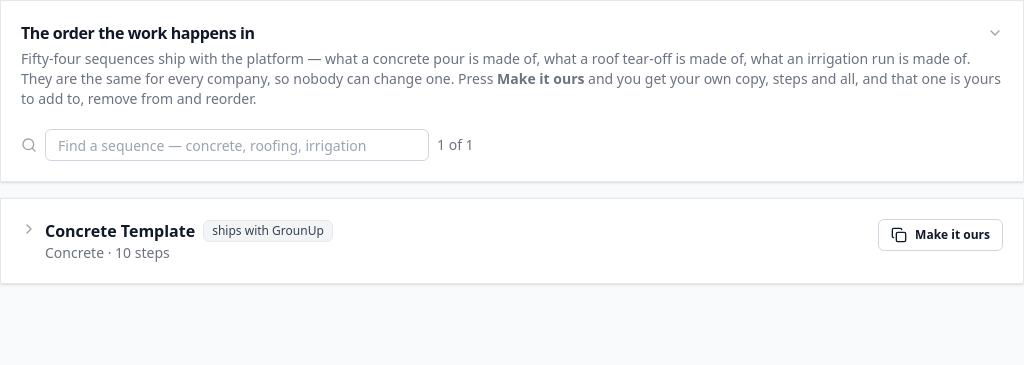
Test: making it yours › shows a refusal rather than a generic failure
The width and height of the screenshot is (1024, 365).
Click the button "Make it ours". click: (941, 235)
box: [878, 219, 1003, 251]
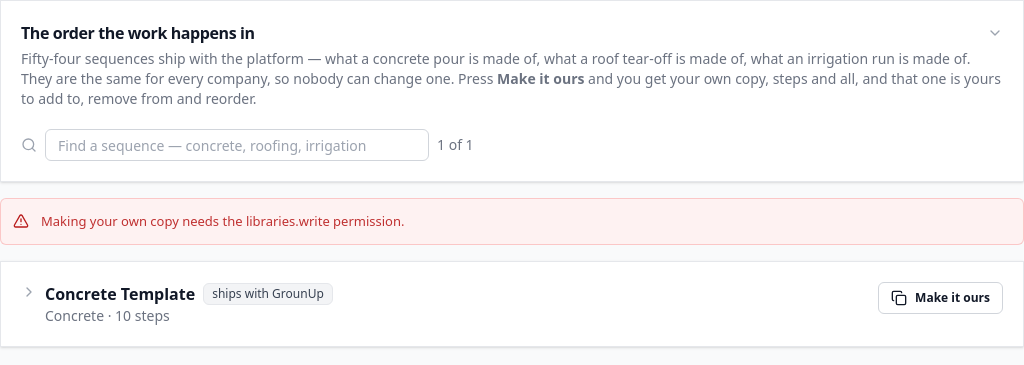
Expected: the text "Making your own copy needs the libraries.write permission." is shown, [41, 211, 404, 232]
